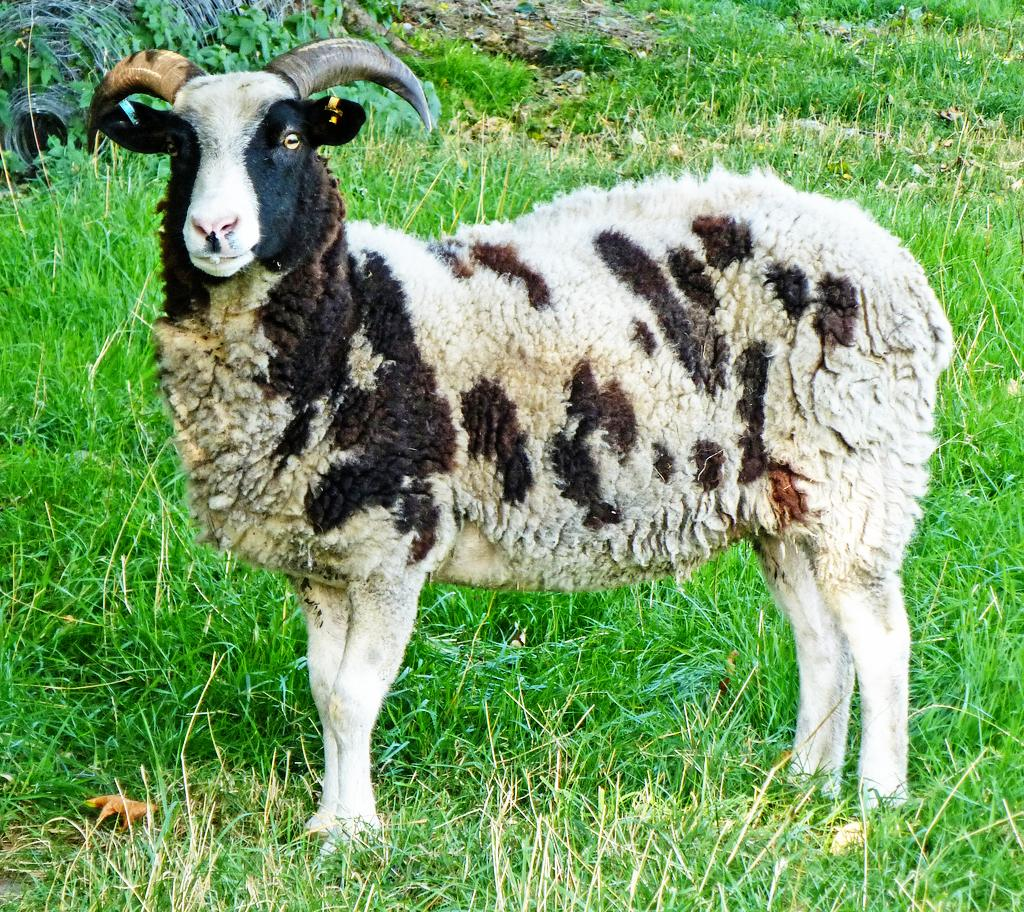Sheep: (91, 32, 952, 854)
